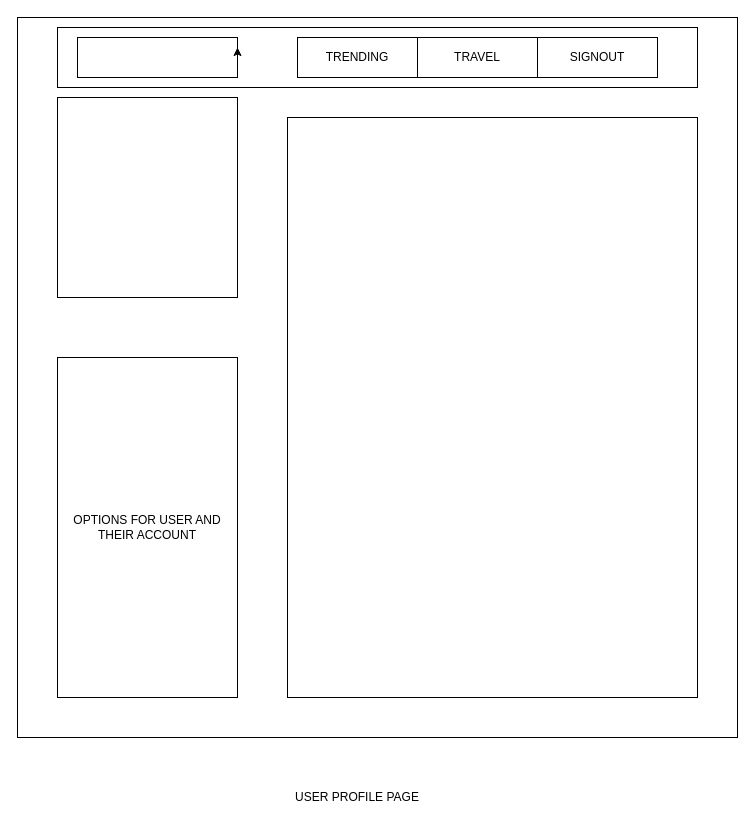
Some shapes in this 755 by 835 pixel diagram are drawn without their labels. Here are the shapes that lost their labels. From the top down, the centre of each, then its label:
point (157, 57): SEARCH
point (147, 197): USER PIC
